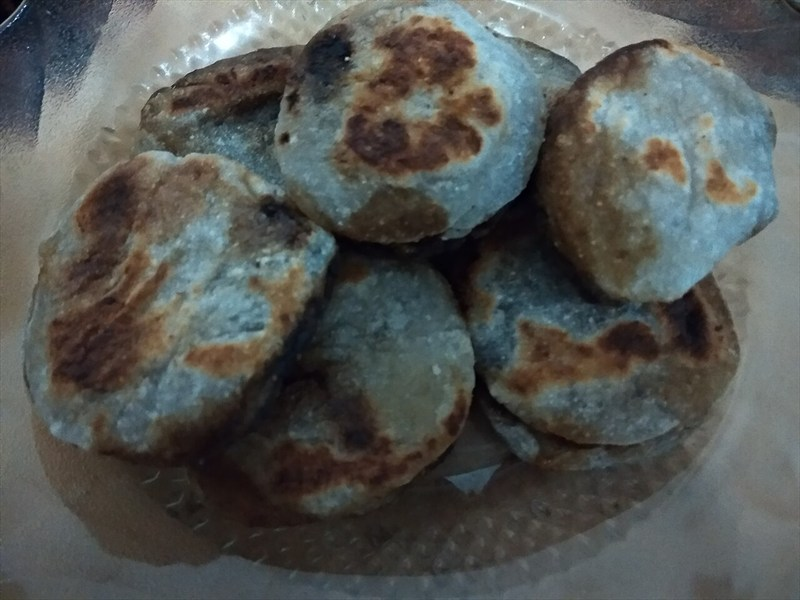Pempek: (112, 12, 718, 476)
